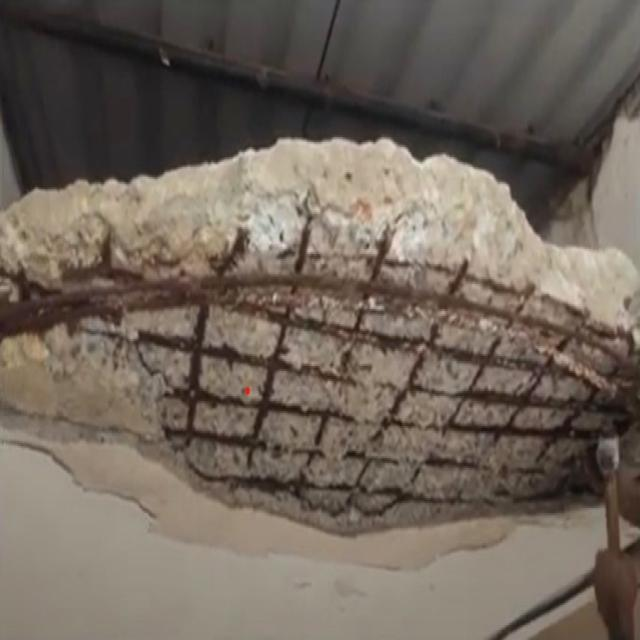Spalling: (0, 165, 638, 566)
